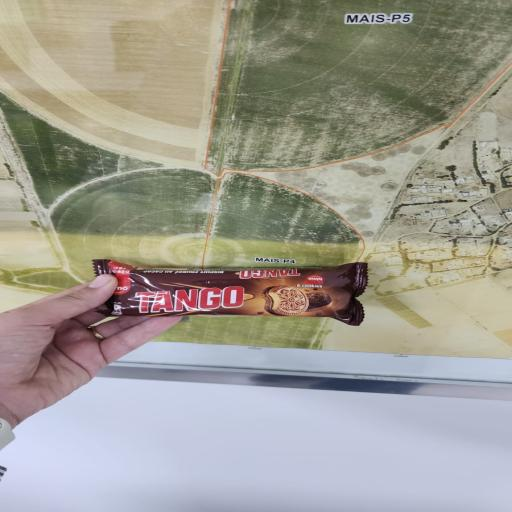tango: (46, 215, 450, 385)
